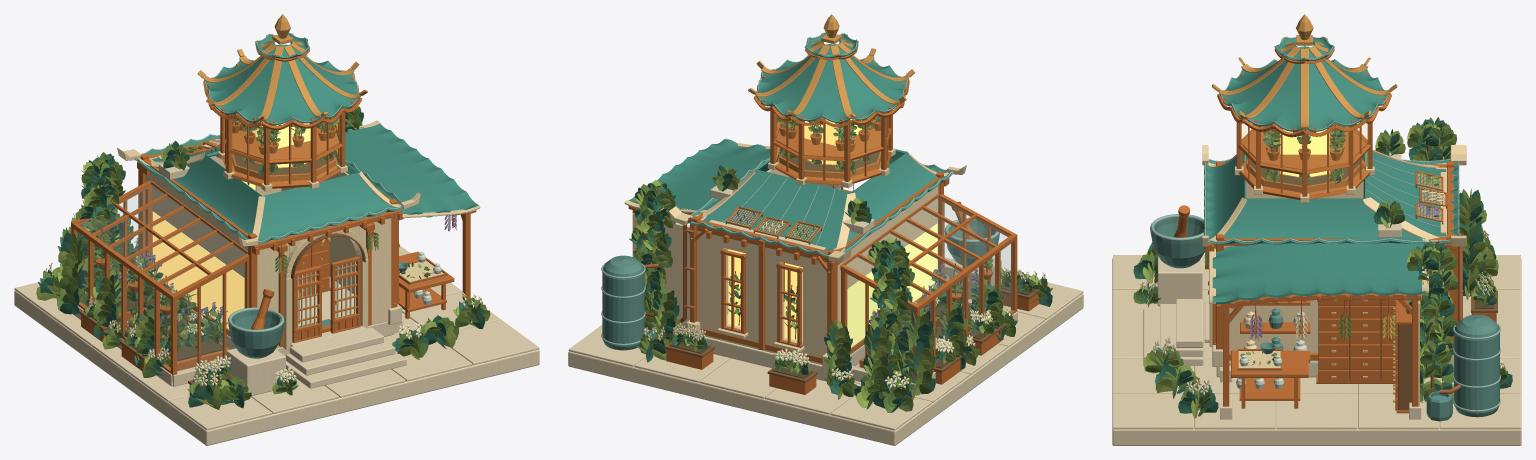
The model's file is herb.glb.
3 views of the same model, side by side, from view 1: azimuth 30°, elevation 25°; view 2: azimuth 150°, elevation 25°; view 3: azimuth 270°, elevation 25° (orthographic). The views are drawn at different scales.
Visible parts, largest first — view 1: RFbatch_0.030, RFbatch_17.030, RFbatch_15.030, RFbatch_2.030, RFbatch_89.020, RFbatch_52.030, RFbatch_5.030, RFbatch_57.030, RFbatch_55.030, RFbatch_99.017, RFbatch_56.030, RFbatch_86.020 (+36 smaller); view 2: RFbatch_0.030, RFbatch_2.030, RFbatch_17.030, RFbatch_15.030, RFbatch_89.020, RFbatch_4.030, RFbatch_57.030, RFbatch_55.030, RFbatch_52.030, RFbatch_56.030, RFbatch_101.015, RFbatch_33.030 (+32 smaller); view 3: RFbatch_0.030, RFbatch_17.030, RFbatch_52.030, RFbatch_89.020, RFbatch_30.030, RFbatch_33.030, RFbatch_5.030, RFbatch_86.020, RFbatch_2.030, RFbatch_101.015, RFbatch_103.009, RFbatch_91.018 (+35 smaller).
Part boxes in pixels (box(x1,y1,x2,y2)): RFbatch_0.030: box(14, 245, 539, 445); RFbatch_17.030: box(136, 135, 402, 244); RFbatch_15.030: box(71, 180, 249, 381); RFbatch_2.030: box(145, 144, 391, 348); RFbatch_89.020: box(206, 44, 360, 124); RFbatch_52.030: box(345, 123, 478, 218); RFbatch_5.030: box(286, 325, 406, 388); RFbatch_57.030: box(43, 215, 478, 404); RFbatch_55.030: box(36, 217, 490, 409); RFbatch_99.017: box(152, 211, 244, 337); RFbatch_56.030: box(38, 213, 484, 408); RFbatch_86.020: box(220, 107, 345, 188); RFbatch_0.030: box(568, 257, 1083, 445); RFbatch_2.030: box(697, 169, 939, 364); RFbatch_17.030: box(689, 148, 952, 257); RFbatch_15.030: box(840, 194, 1017, 383); RFbatch_89.020: box(754, 44, 906, 122); RFbatch_4.030: box(690, 163, 943, 363); RFbatch_57.030: box(636, 272, 1047, 412); RFbatch_55.030: box(639, 270, 1052, 411); RFbatch_52.030: box(629, 139, 770, 210); RFbatch_56.030: box(645, 270, 1052, 412); RFbatch_101.015: box(633, 168, 913, 387); RFbatch_33.030: box(602, 255, 644, 350); RFbatch_0.030: box(1112, 255, 1521, 445); RFbatch_17.030: box(1203, 151, 1459, 244); RFbatch_52.030: box(1212, 237, 1425, 304); RFbatch_89.020: box(1219, 46, 1389, 131); RFbatch_30.030: box(1316, 299, 1411, 413); RFbatch_33.030: box(1426, 314, 1499, 421); RFbatch_5.030: box(1143, 299, 1209, 365); RFbatch_86.020: box(1236, 116, 1372, 199); RFbatch_2.030: box(1224, 167, 1446, 361); RFbatch_101.015: box(1375, 117, 1458, 400); RFbatch_103.009: box(1375, 117, 1457, 402); RFbatch_91.018: box(1212, 14, 1397, 128).
Bounding box in the file's own units: 10 × 9.33 × 10.
Materials: 22 (14 with a texture image).
